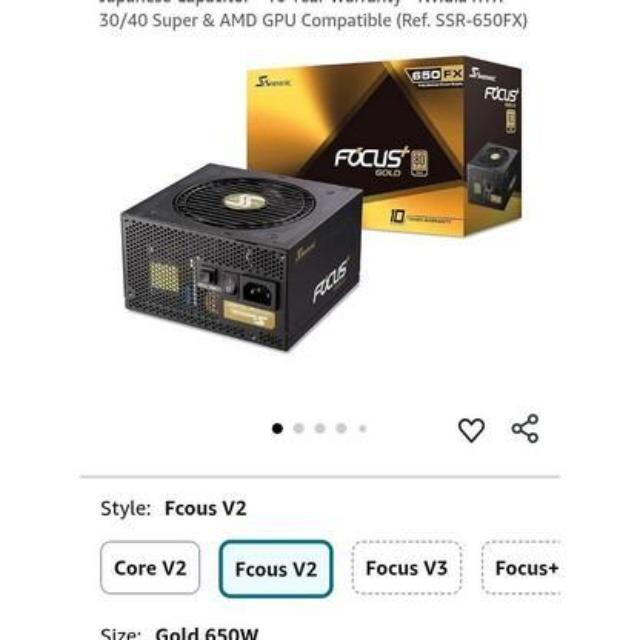PSU: (119, 156, 374, 362)
